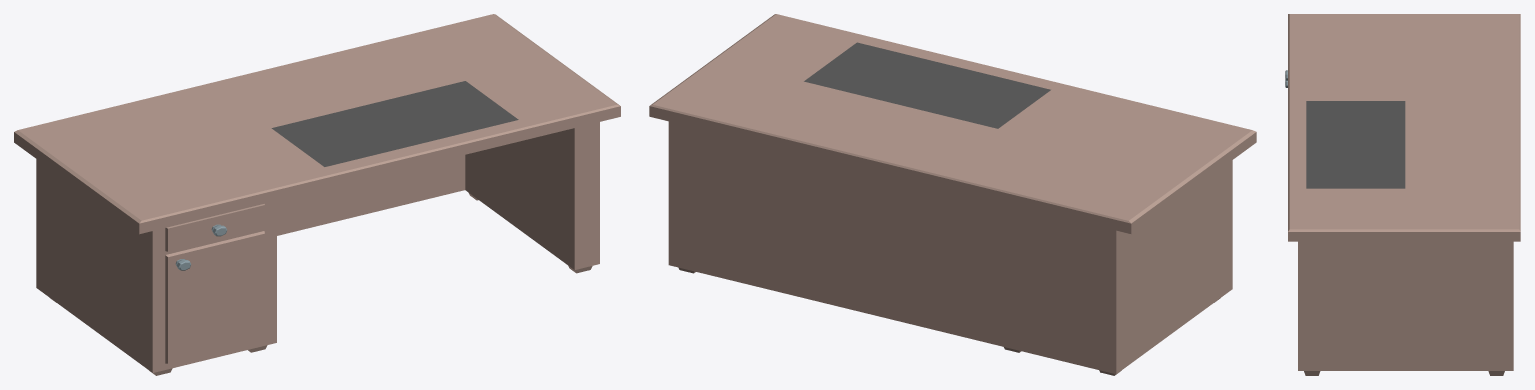
File: desk03.gltf
3 views of the same model, side by side, from view 1: azimuth 30°, elevation 25°; view 2: azimuth 150°, elevation 25°; view 3: azimuth 270°, elevation 25° (orthographic). The views are drawn at different scales.
Parts seen in each view (by area): view 1: Desk_01; view 2: Desk_01; view 3: Desk_01.
Boxes of the visible parts, left/top/right/bottom form: Desk_01: left=14, top=14, right=620, bottom=375; Desk_01: left=649, top=14, right=1256, bottom=375; Desk_01: left=1285, top=14, right=1520, bottom=375.
Bounding box in the file's own units: 1.95 × 0.648 × 0.8907.
